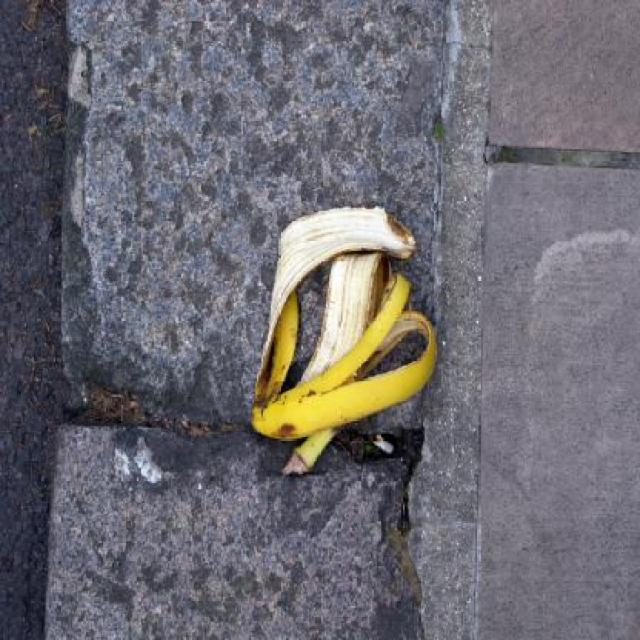Banana: (250, 199, 432, 470)
